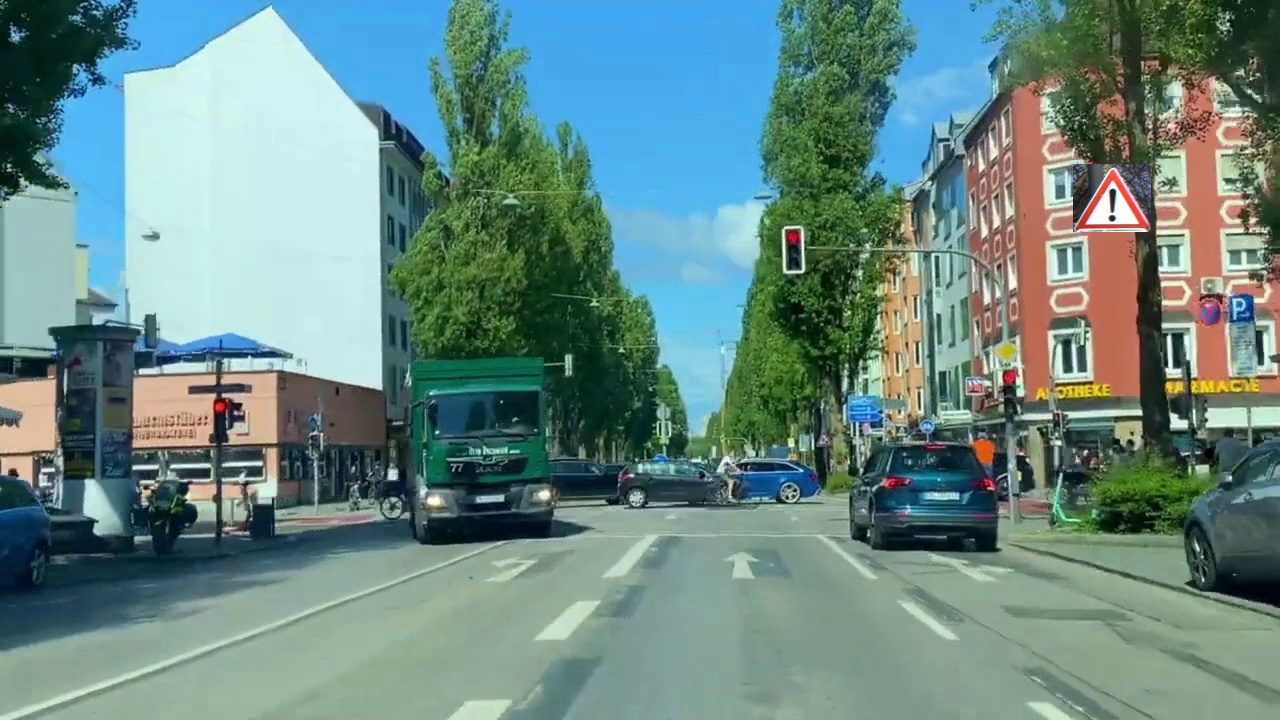Caution: (1073, 164, 1151, 232)
